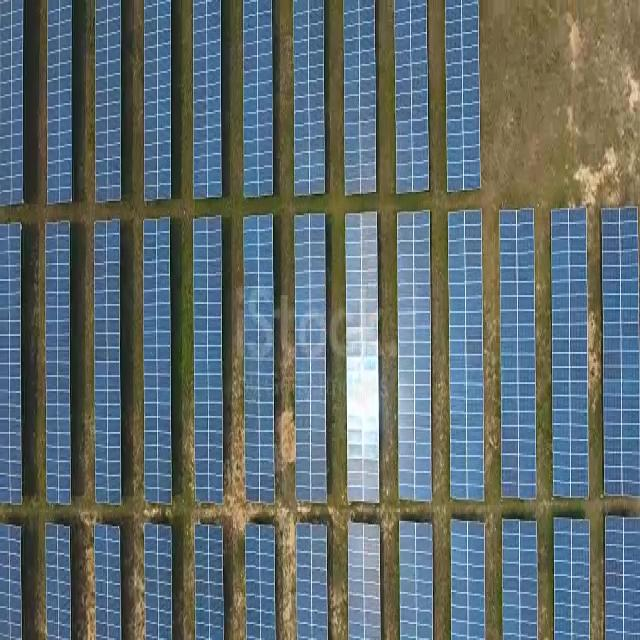Solar-panels: (550, 211, 590, 497), (500, 210, 538, 499), (449, 211, 486, 503), (603, 210, 640, 498), (400, 212, 434, 503), (347, 212, 380, 505), (246, 215, 279, 506), (297, 215, 328, 505), (193, 219, 224, 504), (145, 219, 173, 507), (45, 225, 73, 503), (95, 220, 122, 505), (396, 1, 432, 192), (448, 1, 482, 194), (294, 4, 327, 197), (345, 4, 378, 196), (243, 5, 273, 198), (144, 1, 172, 199), (195, 2, 223, 196), (1, 225, 20, 504), (97, 2, 122, 206), (1, 1, 25, 206), (48, 4, 72, 204), (556, 519, 594, 640), (452, 522, 488, 640), (606, 517, 640, 640), (504, 523, 538, 640), (402, 523, 435, 640), (350, 525, 383, 640), (247, 523, 279, 640), (299, 525, 329, 640), (196, 529, 224, 640), (146, 528, 172, 640), (97, 528, 122, 640), (1, 522, 24, 638), (47, 524, 70, 640)
